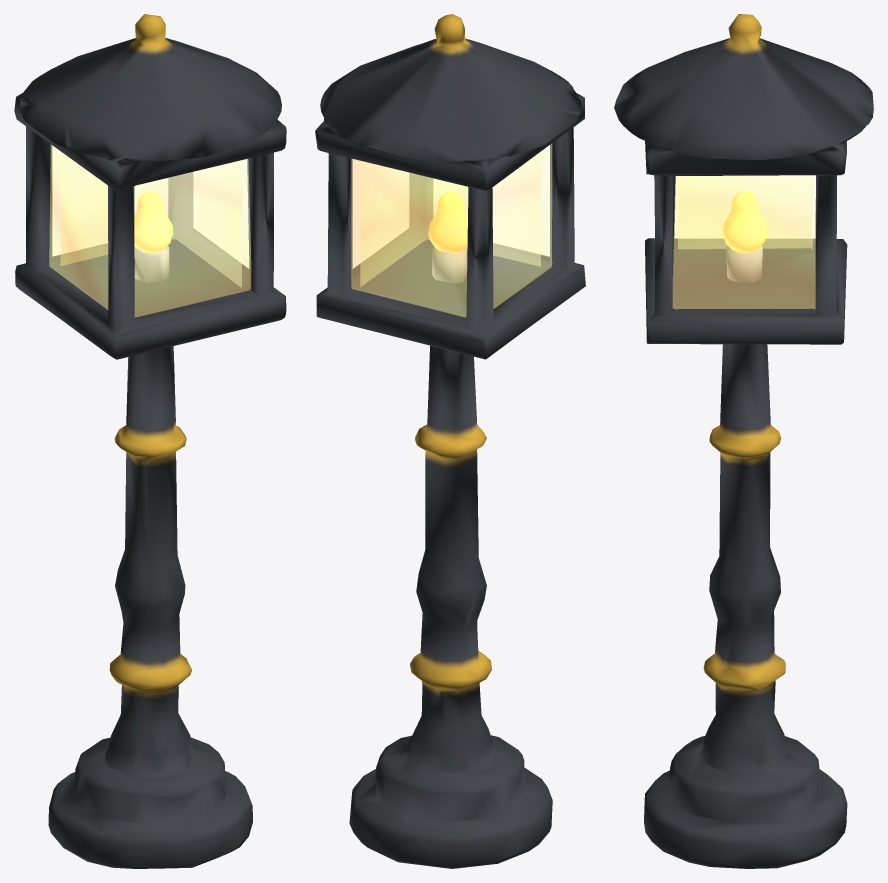
File: lantern.glb
3 renders of one model, left to right at view 1: azimuth 30°, elevation 25°; view 2: azimuth 150°, elevation 25°; view 3: azimuth 270°, elevation 25°, orthographic.
Parts seen in each view (by area): view 1: iron, glass, flame; view 2: iron, glass, flame; view 3: iron, glass, flame.
Boxes of the visible parts, bbox=[...] form: iron: bbox=[14, 14, 286, 868]; glass: bbox=[49, 144, 251, 317]; flame: bbox=[134, 191, 173, 252]; iron: bbox=[315, 14, 585, 868]; glass: bbox=[351, 143, 552, 317]; flame: bbox=[428, 192, 467, 252]; iron: bbox=[614, 14, 873, 868]; glass: bbox=[672, 175, 815, 309]; flame: bbox=[722, 191, 767, 252].
Size of the model in its own units: 0.4284 by 1.5 by 0.4315.
3 materials, 3 textured.
